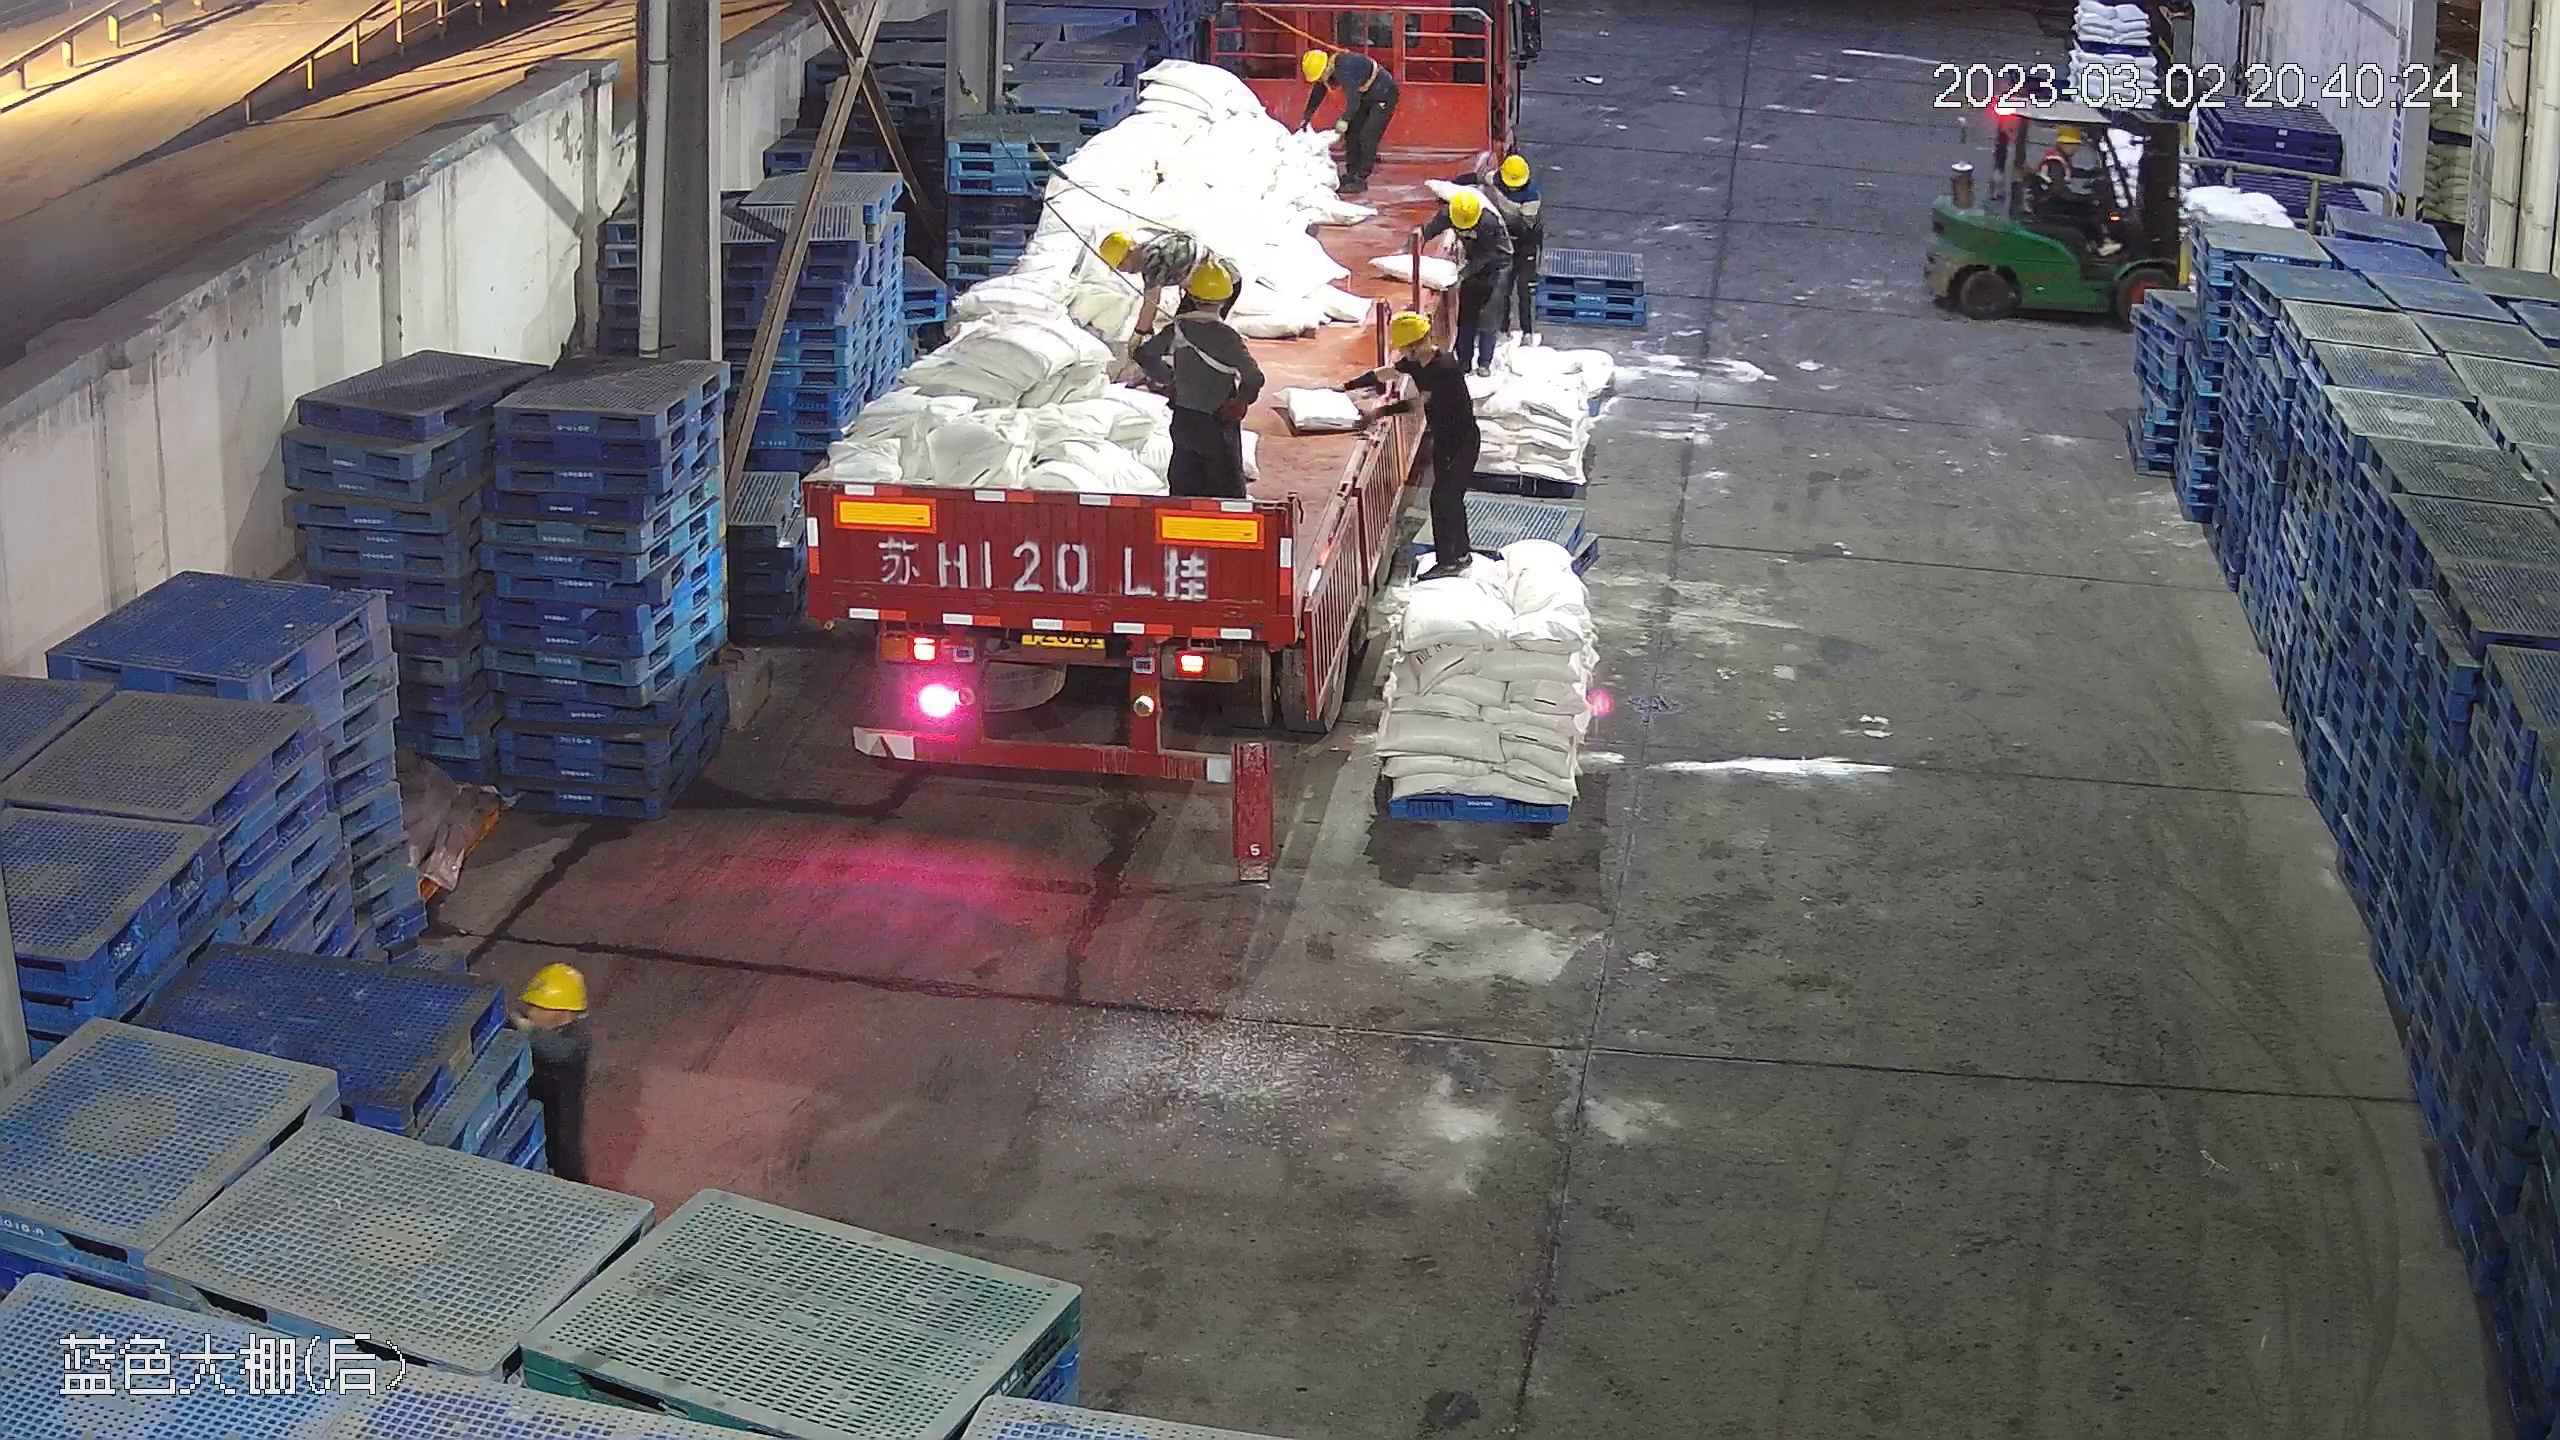belt: (1157, 289, 1255, 409), (1309, 45, 1381, 99), (1132, 218, 1195, 278), (1458, 222, 1477, 241)
head: (1158, 257, 1255, 370), (504, 962, 596, 1079), (1385, 309, 1468, 404), (1094, 223, 1187, 289), (1424, 189, 1507, 255), (1300, 45, 1372, 98), (1491, 152, 1541, 227), (2047, 123, 2096, 176)
helmet: (516, 960, 589, 1013), (1178, 256, 1238, 301), (1440, 186, 1486, 235), (1386, 309, 1434, 353), (1093, 226, 1132, 273), (1301, 47, 1331, 83), (1498, 152, 1527, 186), (2056, 124, 2088, 147)
people: (463, 963, 605, 1340), (1132, 263, 1259, 505), (1381, 305, 1480, 589), (1407, 180, 1513, 375), (1296, 37, 1399, 203), (2043, 119, 2125, 242)
truck: (797, 13, 1525, 794)
